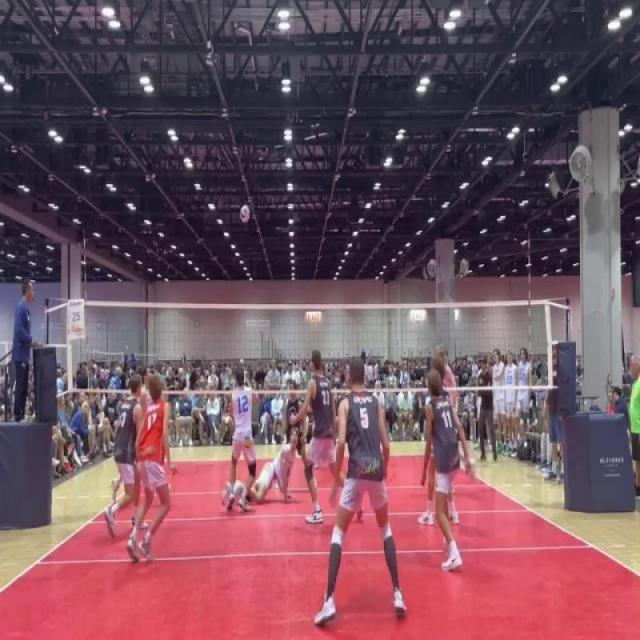volleyball: (238, 202, 252, 226)
